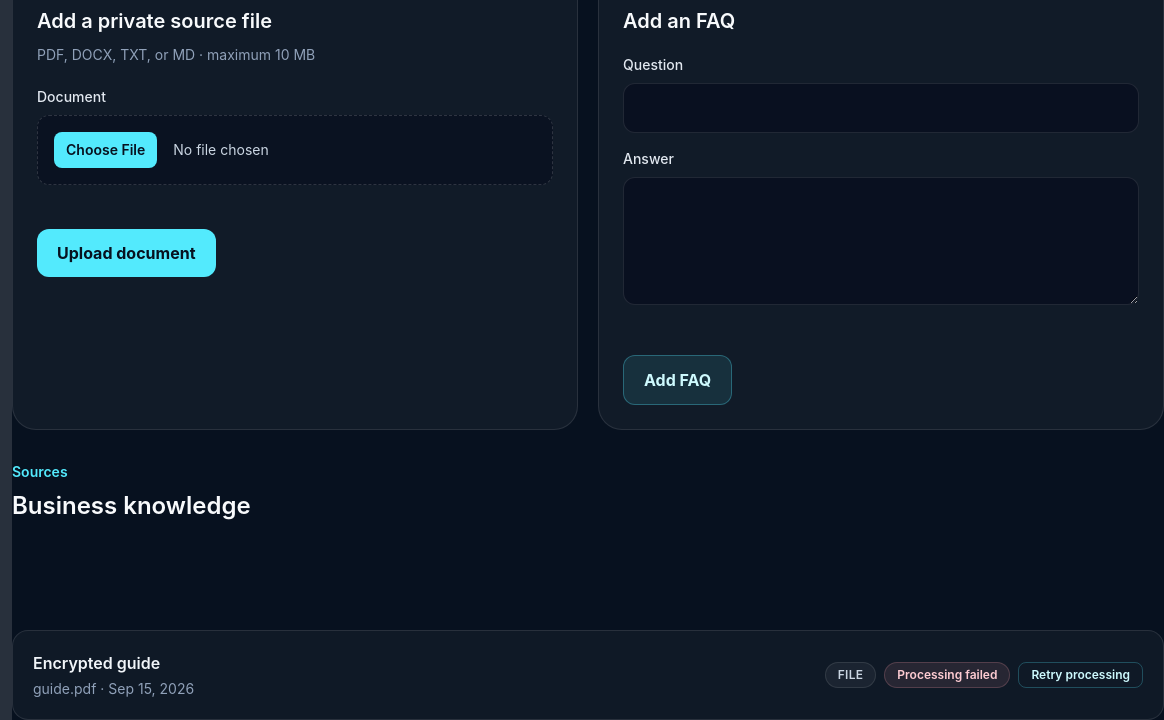
KnowledgePage › shows an approved processing error without altering it
This screenshot has width=1164, height=720.
(page scrolled)
Click the button "Retry processing": (1081, 675) [1018,662,1143,688]
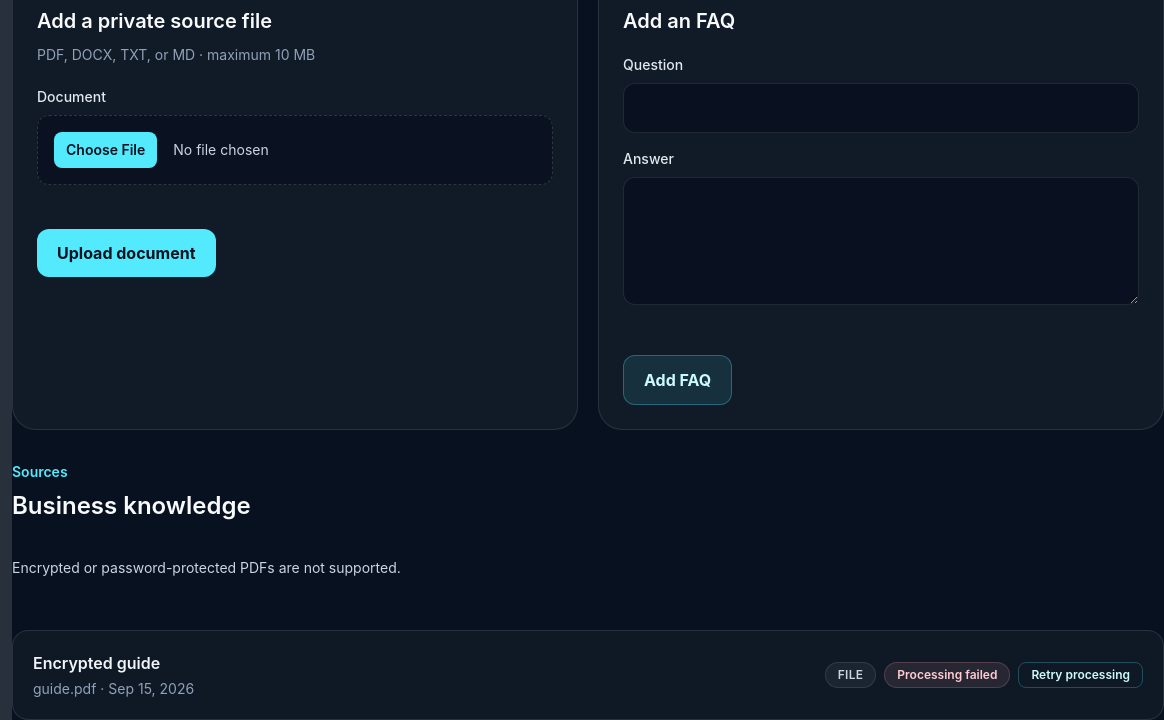
expect the text "Encrypted or password-protected PDFs are not supported." is shown: met, box [12,559,401,576]
